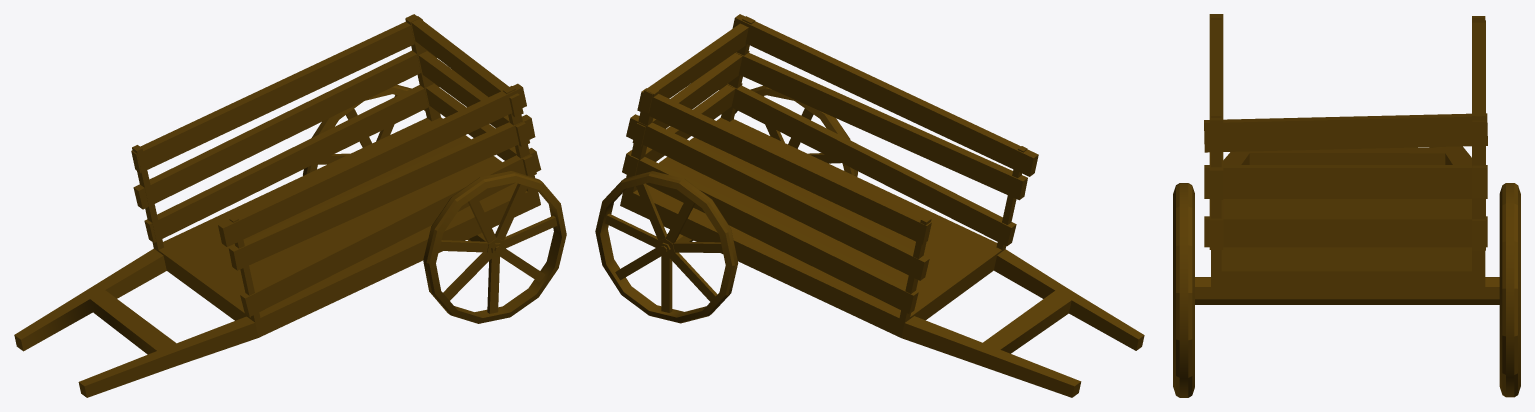
File: cart.glb
The picture shows the model from 3 angles, left to right: view 1: azimuth 30°, elevation 25°; view 2: azimuth 150°, elevation 25°; view 3: azimuth 270°, elevation 25°; orthographic projection. The views are drawn at different scales.
Parts seen in each view (by area): view 1: pCube12; view 2: pCube12; view 3: pCube12.
Boxes of the visible parts, x1,y1,x2,y2 form: pCube12: (14, 14, 566, 397); pCube12: (595, 14, 1144, 397); pCube12: (1173, 14, 1520, 397).
Bounding box in the file's own units: 24.86 × 11.48 × 12.15.
